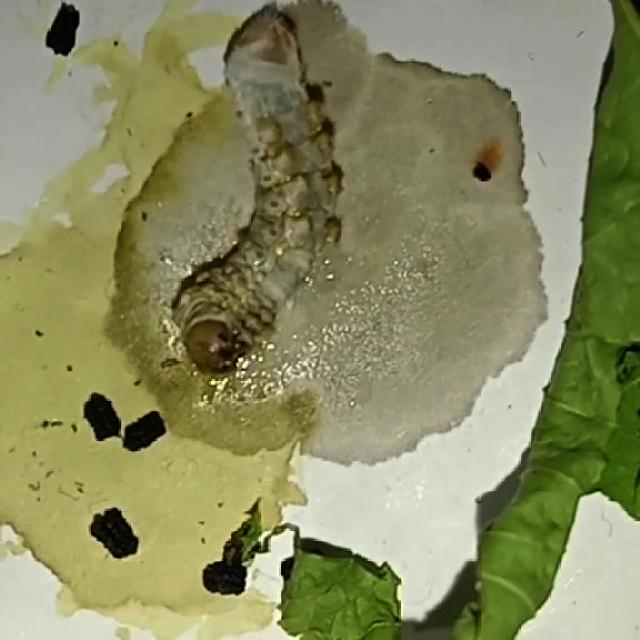Grasserie: (140, 0, 393, 438)
